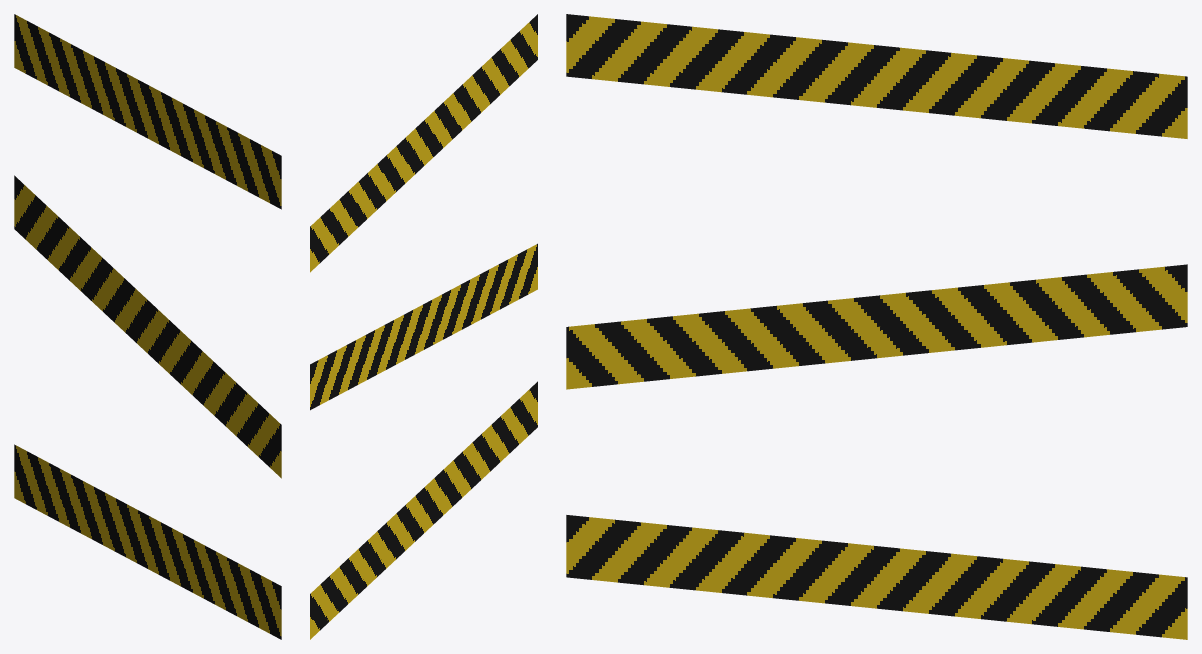
Rendered from escada_interditada.glb.
The picture shows the model from 3 angles, left to right: view 1: azimuth 30°, elevation 25°; view 2: azimuth 150°, elevation 25°; view 3: azimuth 270°, elevation 25°; orthographic projection. The views are drawn at different scales.
Parts seen in each view (by area): view 1: Fitas_0; view 2: Fitas_0; view 3: Fitas_0.
Boxes of the visible parts, <box> form: Fitas_0: <box>14,14,281,639</box>; Fitas_0: <box>310,14,537,639</box>; Fitas_0: <box>566,14,1187,639</box>.
Size of the model in its own units: 0 by 1 by 0.9.
Materials: 1 (1 with a texture image).
